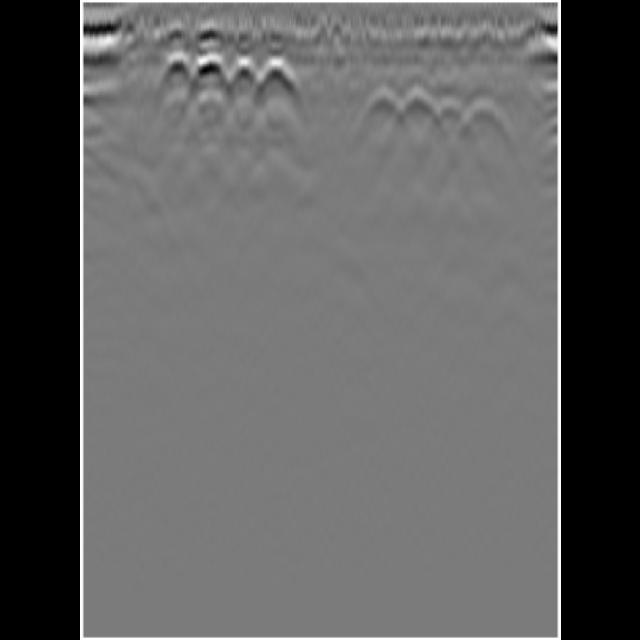hyperbola: (393, 81, 437, 127), (463, 94, 505, 138), (428, 90, 468, 132), (155, 51, 197, 90), (256, 54, 296, 92), (359, 84, 405, 116), (190, 50, 228, 88), (223, 54, 260, 90)
